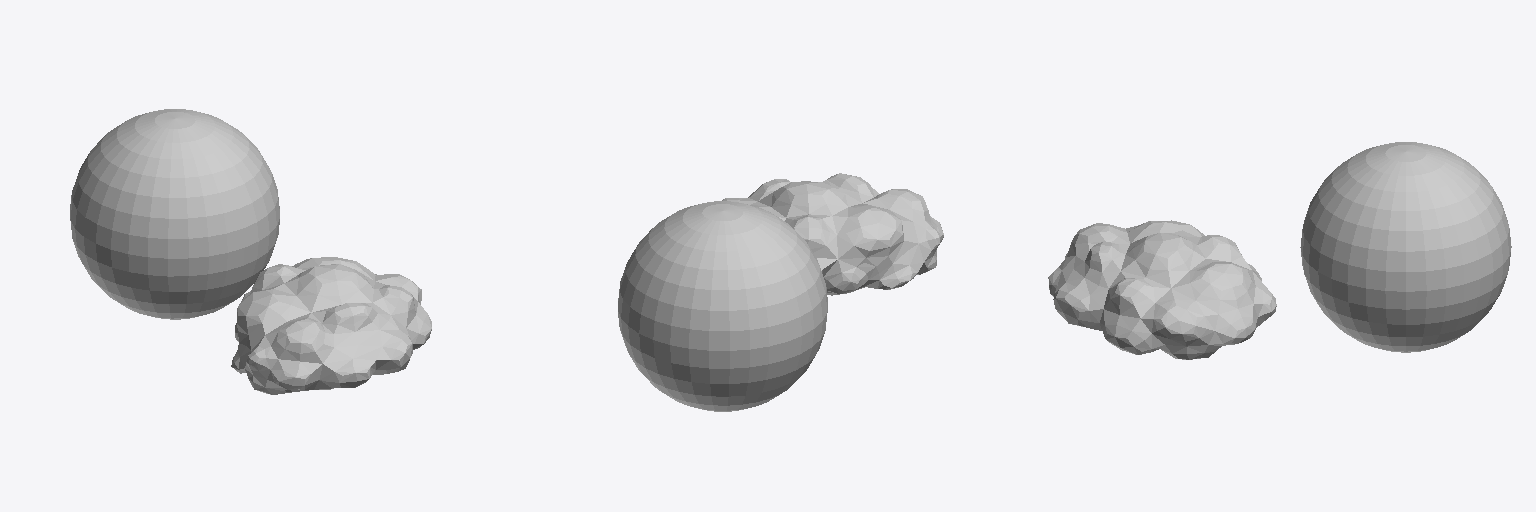
Rendered from cloud-sun-2.obj.
The picture shows the model from 3 angles: view 1: azimuth 30°, elevation 25°; view 2: azimuth 150°, elevation 25°; view 3: azimuth 270°, elevation 25°; orthographic projection.
Parts seen in each view (by area): view 1: Sphere001, Object_3; view 2: Sphere001, Object_3; view 3: Sphere001, Object_3.
Boxes of the visible parts, <box> form: Sphere001: <box>70,109,279,319</box>; Object_3: <box>231,257,431,394</box>; Sphere001: <box>618,201,827,411</box>; Object_3: <box>722,173,943,295</box>; Sphere001: <box>1300,142,1511,352</box>; Object_3: <box>1048,220,1276,359</box>.
Size of the model in its own units: 151 by 126 by 277.